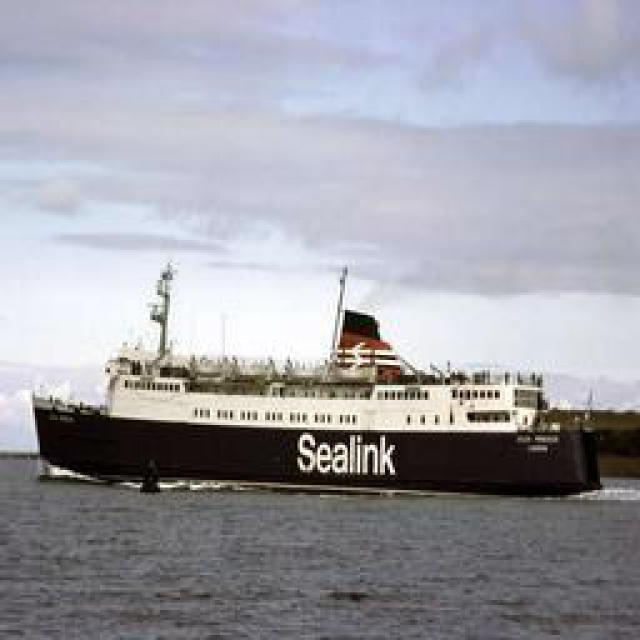Ship: (28, 263, 616, 498)
